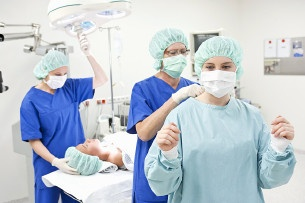Mask: (200, 59, 236, 95)
